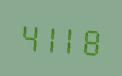eight: (81, 21, 101, 58)
four: (18, 17, 38, 54)
one: (39, 18, 59, 55), (60, 20, 80, 57)
